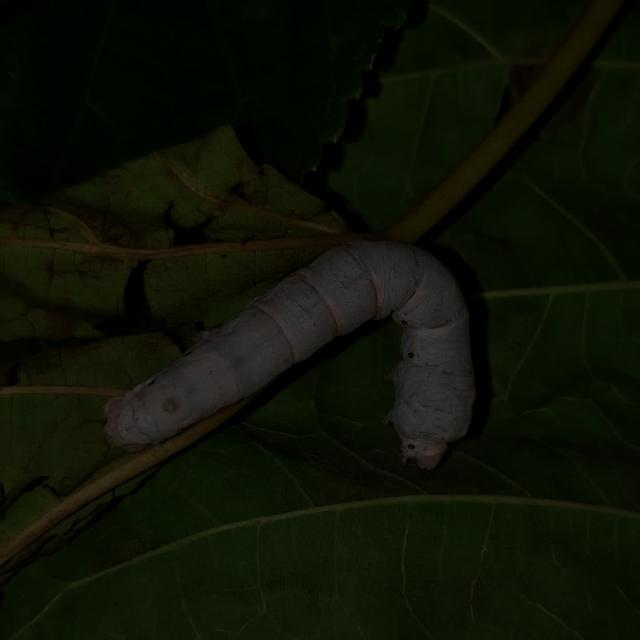Healthy: (96, 229, 496, 485)
